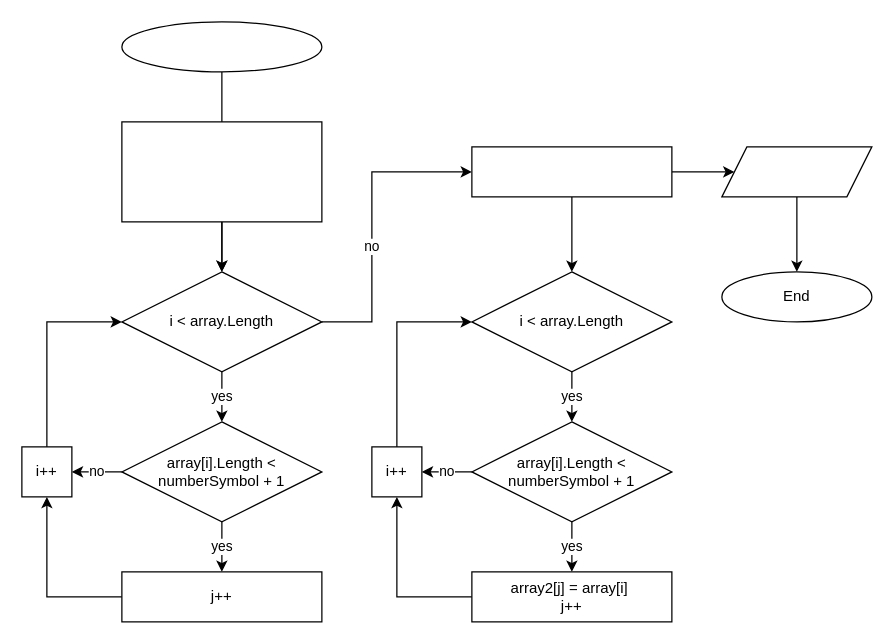
The diagram is 894 pixels wide and 644 high, and some of its shapes have lost their labels. The shapes that lost their labels are listed below. From the top down, each one's centre as x and y in pixels, then its label:
At point (221, 46): "Start".
At point (221, 171): "array [5] numberSymbol = 3 i = 0 j = 0".
At point (571, 171): "array2 = new array[j] j = 0 i = 0".
At point (796, 171): "print array2".
